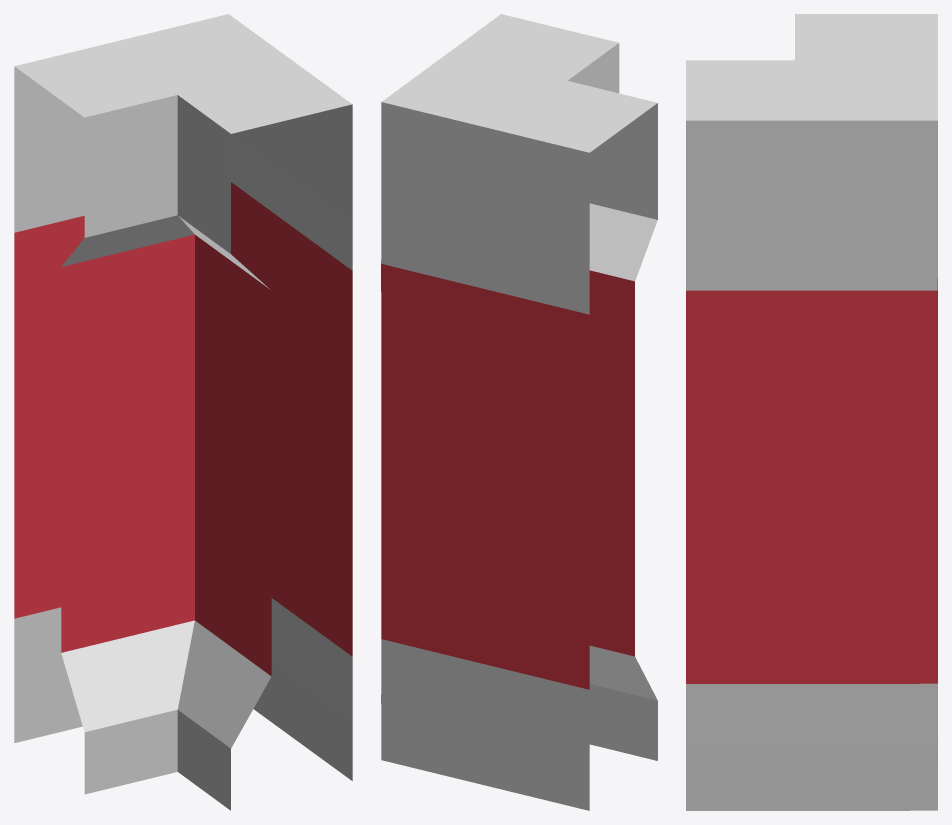
Rendered from Wall_Corner.fbx.
The picture shows the model from 3 angles, left to right: view 1: azimuth 30°, elevation 25°; view 2: azimuth 150°, elevation 25°; view 3: azimuth 270°, elevation 25°; orthographic projection. The views are drawn at different scales.
Visible parts, largest first — view 1: Wall_Corner; view 2: Wall_Corner; view 3: Wall_Corner.
Part boxes in pixels (box(x1,y1,x2,y2)): Wall_Corner: box(14, 14, 352, 810); Wall_Corner: box(381, 14, 657, 810); Wall_Corner: box(686, 14, 937, 810).
Bounding box in the file's own units: 122 × 367 × 121.
